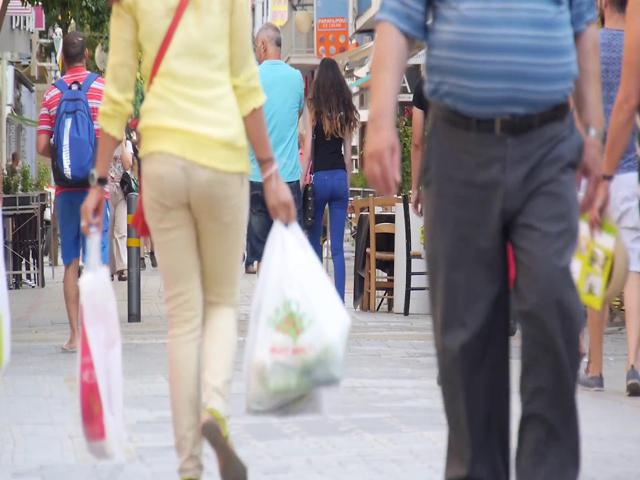shoe: (201, 418, 247, 479), (578, 368, 603, 391), (626, 365, 640, 396)
